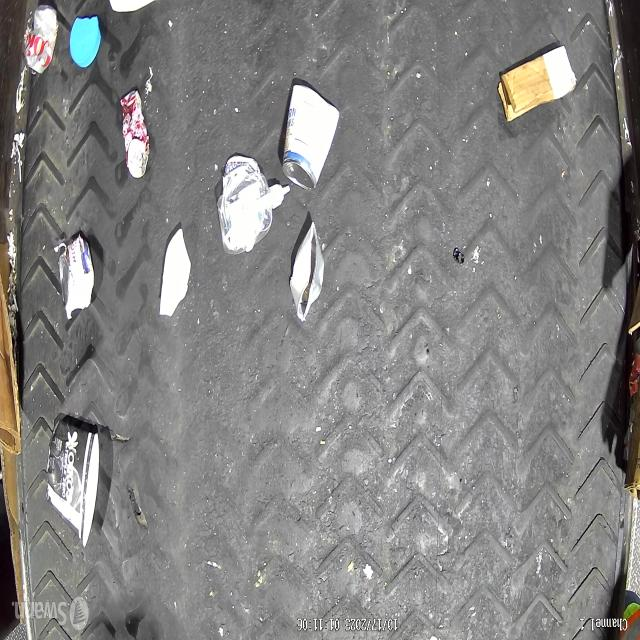can: (283, 86, 340, 192), (290, 222, 325, 322), (119, 89, 150, 178), (21, 4, 58, 76), (59, 234, 93, 311)
